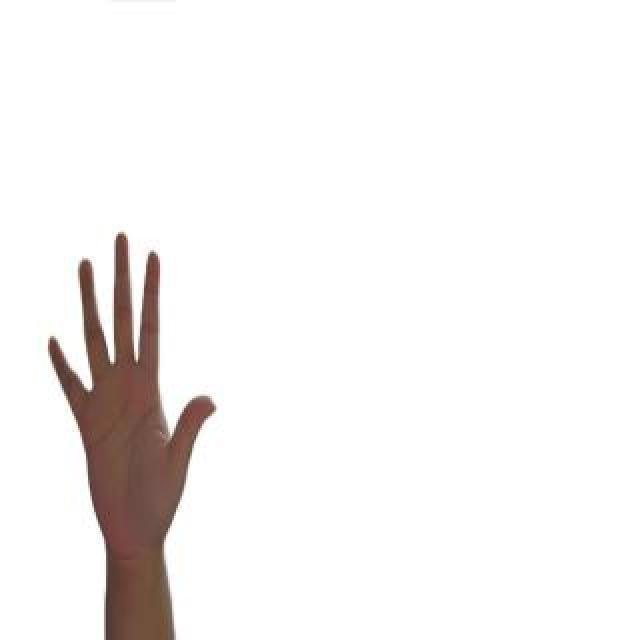hand: (48, 228, 219, 562)
